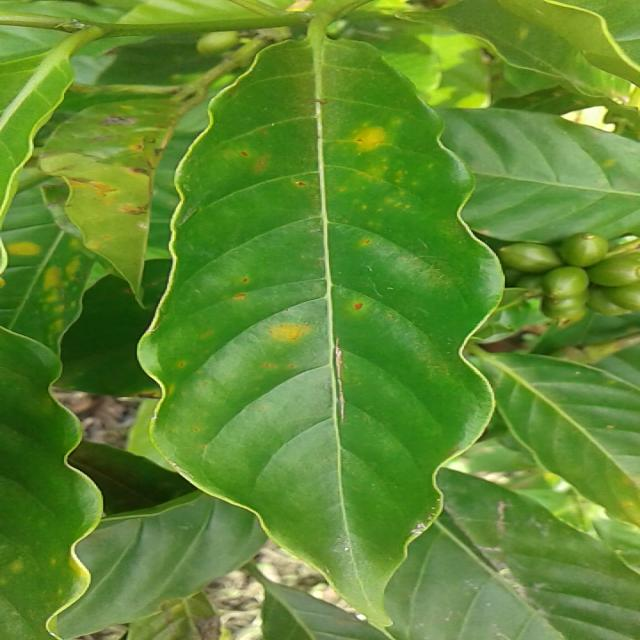Enfermedad-Roya: (124, 46, 503, 632)
